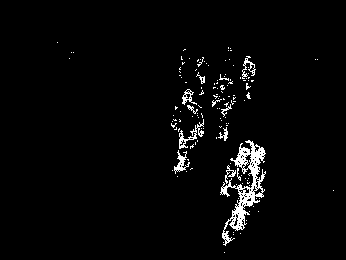person: (169, 89, 208, 176), (213, 75, 238, 141), (239, 54, 259, 101)
